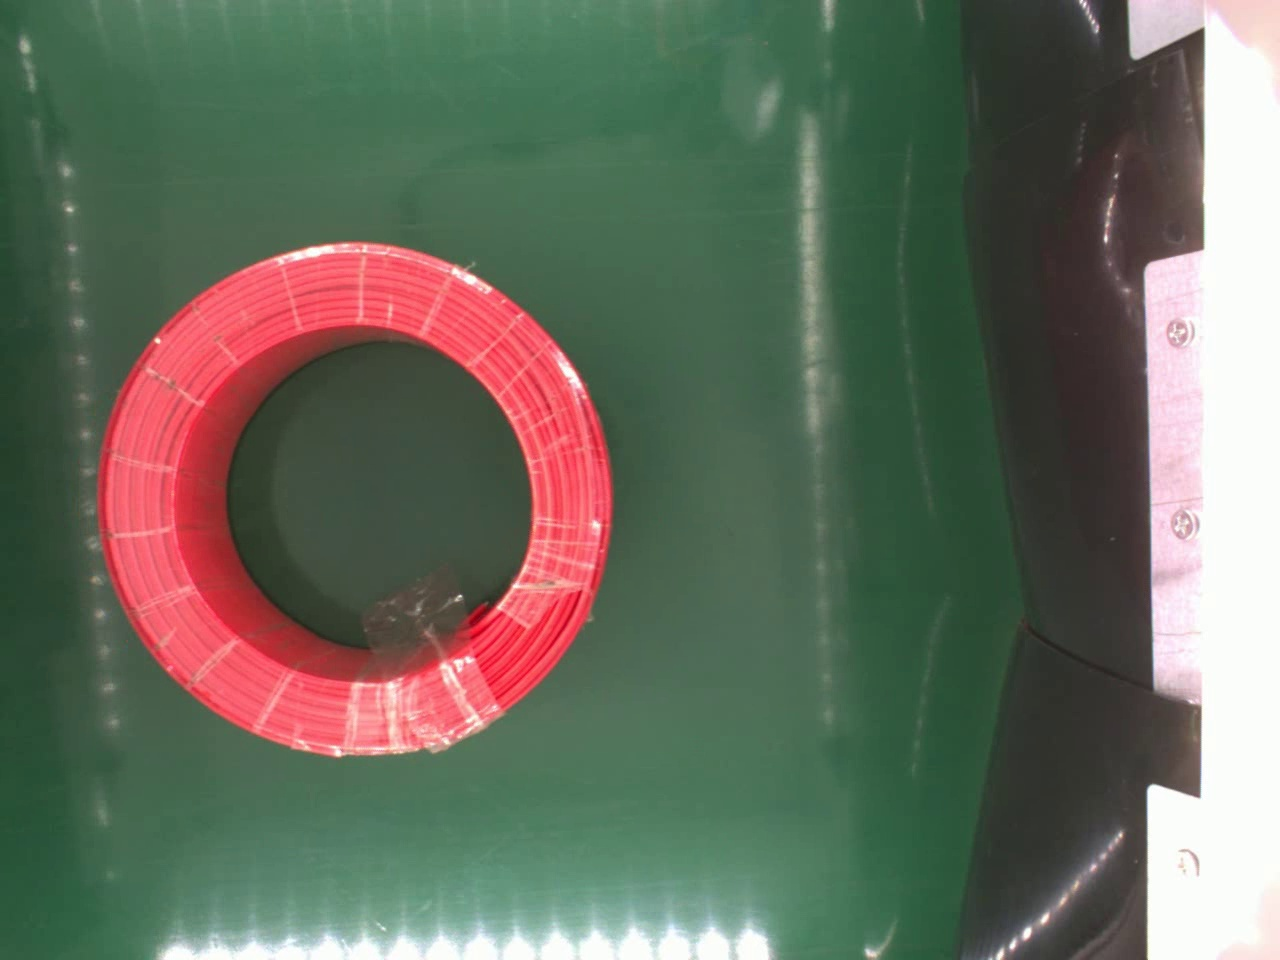red: (98, 237, 609, 758)
